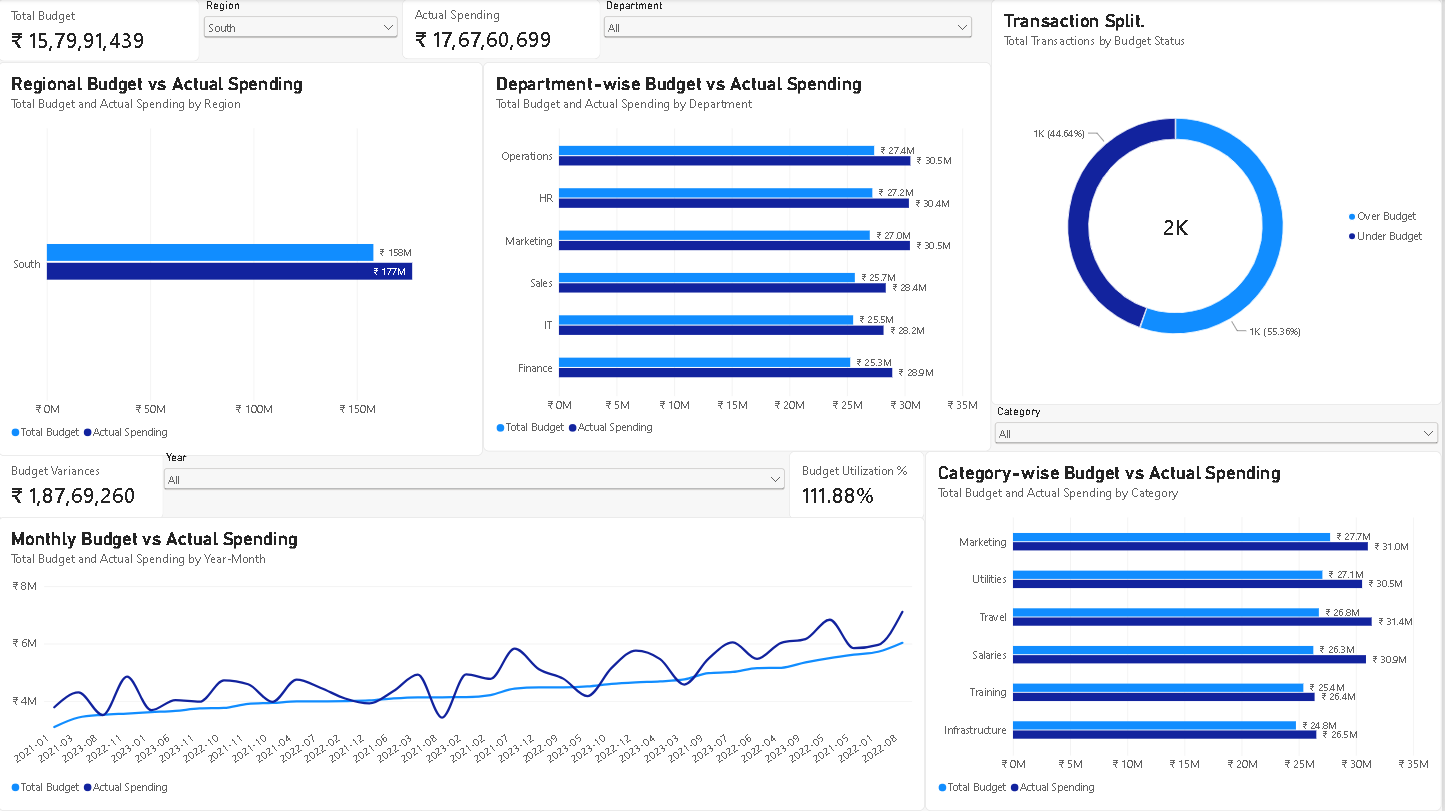

Layout of this report page (visuals, bound fields, positions):
{"tool":"powerbi","page":{"name":"Financial Overview","canvas":[1920,1080],"ordinal":0},"visuals":[{"type":"cardVisual","fields":{"Data":["Project_4_Cleaned_Data.Total Budget"]},"box":[0,0,268.4,83.2],"z":0},{"type":"cardVisual","fields":{"Data":["Project_4_Cleaned_Data.Actual Spending"]},"box":[536.9,0,264.1,80.2],"z":1000},{"type":"cardVisual","fields":{"Data":["Project_4_Cleaned_Data.Budget Variances"]},"box":[0,601.1,220.3,91.9],"z":2000},{"type":"cardVisual","fields":{"Data":["Project_4_Cleaned_Data.Budget Utilization %"]},"box":[1051.9,601.1,180.9,91.9],"z":3000},{"type":"clusteredBarChart","title":"Department-wise Budget vs Actual Spending","fields":{"Category":["Project_4_Cleaned_Data.Department"],"Y":["Project_4_Cleaned_Data.Total Budget","Project_4_Cleaned_Data.Actual Spending"]},"box":[644.9,83.2,675.5,517.9],"z":8000},{"type":"clusteredBarChart","title":"Category-wise Budget vs Actual Spending","fields":{"Category":["Project_4_Cleaned_Data.Category"],"Y":["Project_4_Cleaned_Data.Total Budget","Project_4_Cleaned_Data.Actual Spending"]},"box":[1232.8,601.1,687.2,478.5],"z":9000},{"type":"clusteredBarChart","title":"Regional Budget vs Actual Spending","fields":{"Category":["Project_4_Cleaned_Data.Region"],"Y":["Project_4_Cleaned_Data.Total Budget","Project_4_Cleaned_Data.Actual Spending"]},"box":[0,83.2,644.9,523.8],"z":10000},{"type":"lineChart","title":"Monthly Budget vs Actual Spending","fields":{"Category":["Date Table.Year-Month"],"Y":["Project_4_Cleaned_Data.Total Budget","Project_4_Cleaned_Data.Actual Spending"]},"box":[0,688.6,1232.8,391],"z":11000},{"type":"slicer","fields":{"Values":["Date Table.Year"]},"box":[215.9,601.1,836,91.9],"z":11001},{"type":"slicer","fields":{"Values":["Project_4_Cleaned_Data.Department"]},"box":[801,0,500.4,83.2],"z":11002},{"type":"slicer","fields":{"Values":["Project_4_Cleaned_Data.Category"]},"box":[1320.4,539.8,599.6,61.3],"z":11003},{"type":"slicer","fields":{"Values":["Project_4_Cleaned_Data.Region"]},"box":[268.4,0,268.4,80.2],"z":11004},{"type":"donutChart","title":"Transaction Split.","fields":{"Category":["Project_4_Cleaned_Data.Budget Status"],"Y":["Project_4_Cleaned_Data.Total Transactions"]},"box":[1320.4,0,599.6,539.8],"z":11005}]}

Visuals, with their boxes in screenshot pixels (x1, y1, x2, y2), scaled from the page's 1920x1080 canvas onto the 1445x811 screenshot:
cardVisual - Project_4_Cleaned_Data.Total Budget: rect(0, 0, 202, 62)
cardVisual - Project_4_Cleaned_Data.Actual Spending: rect(404, 0, 603, 60)
cardVisual - Project_4_Cleaned_Data.Budget Variances: rect(0, 451, 166, 520)
cardVisual - Project_4_Cleaned_Data.Budget Utilization %: rect(792, 451, 928, 520)
"Department-wise Budget vs Actual Spending" clusteredBarChart: rect(485, 62, 994, 451)
"Category-wise Budget vs Actual Spending" clusteredBarChart: rect(928, 451, 1444, 810)
"Regional Budget vs Actual Spending" clusteredBarChart: rect(0, 62, 485, 456)
"Monthly Budget vs Actual Spending" lineChart: rect(0, 517, 928, 810)
slicer - Date Table.Year: rect(162, 451, 792, 520)
slicer - Project_4_Cleaned_Data.Department: rect(603, 0, 979, 62)
slicer - Project_4_Cleaned_Data.Category: rect(994, 405, 1444, 451)
slicer - Project_4_Cleaned_Data.Region: rect(202, 0, 404, 60)
"Transaction Split." donutChart: rect(994, 0, 1444, 405)
